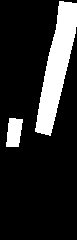parkingspot: (35, 1, 77, 135), (6, 118, 22, 146)
